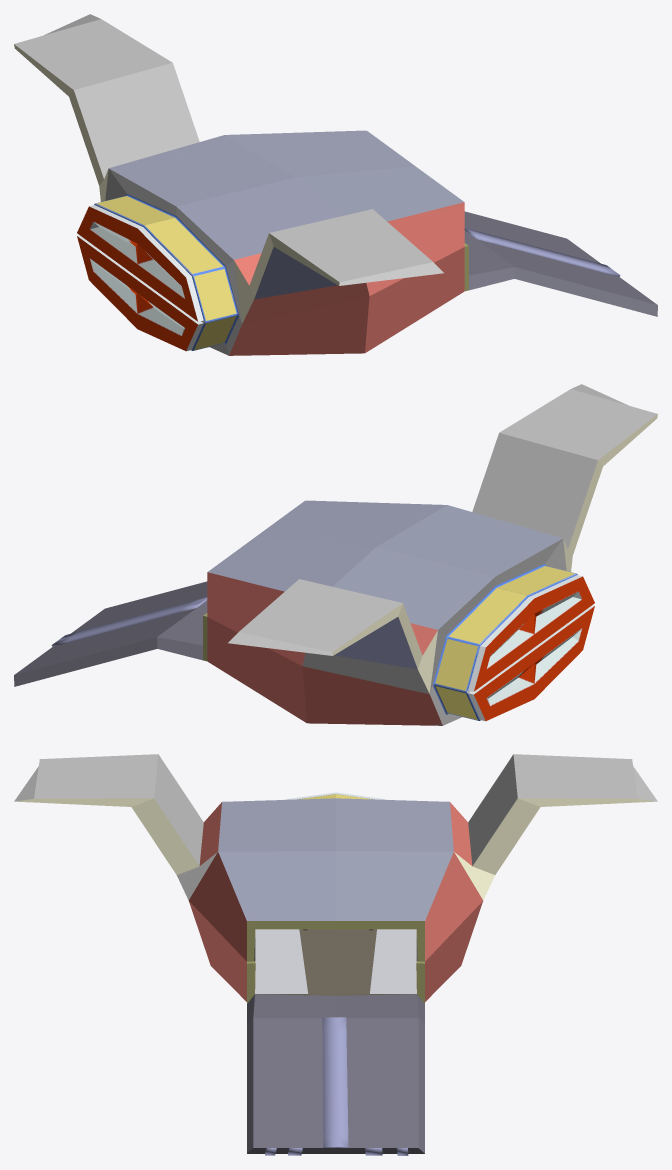
The model's file is Textured_Ship.fbx.
3 renders of one model, top to bottom at view 1: azimuth 30°, elevation 25°; view 2: azimuth 150°, elevation 25°; view 3: azimuth 270°, elevation 25°, orthographic. The views are drawn at different scales.
Visible parts, largest first — view 1: Ship, WingGlow.001, HeadLights, Shipfrontlining.001, LightRunway; view 2: Ship, WingGlow.001, HeadLights, Shipfrontlining.001, LightRunway; view 3: Ship, Walkway.001, LightRunway.
Part boxes in pixels (x1,y1,x2,y2): Ship: [14, 14, 657, 355]; WingGlow.001: [254, 247, 337, 299]; HeadLights: [77, 205, 204, 351]; Shipfrontlining.001: [94, 194, 239, 350]; LightRunway: [464, 228, 620, 276]; Ship: [14, 384, 657, 725]; WingGlow.001: [334, 617, 417, 669]; HeadLights: [467, 575, 594, 721]; Shipfrontlining.001: [432, 564, 577, 720]; LightRunway: [51, 597, 207, 646]; Ship: [14, 754, 657, 1153]; Walkway.001: [255, 929, 416, 995]; LightRunway: [265, 1017, 408, 1155].
Bounding box in the file's own units: 793 × 364 × 1022.
Materials: 8 (8 with a texture image).
